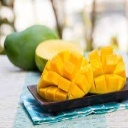mango: (5, 24, 61, 70)
